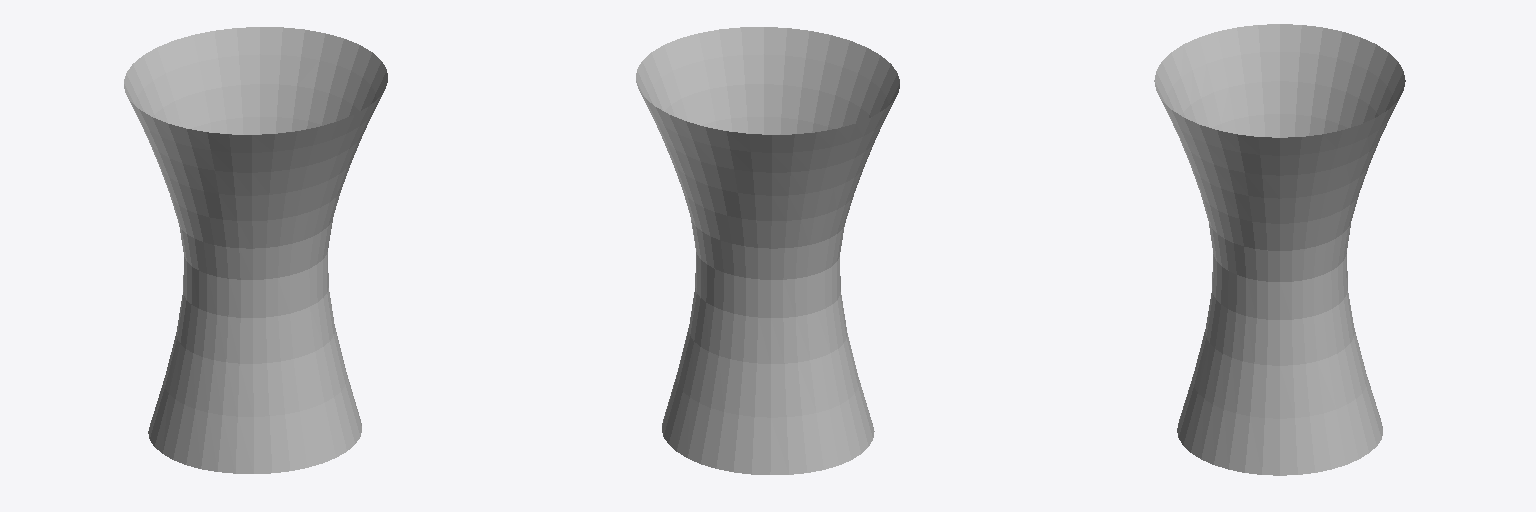
Rendered from AirGlassContact.obj.
The picture shows the model from 3 angles: view 1: azimuth 30°, elevation 25°; view 2: azimuth 150°, elevation 25°; view 3: azimuth 270°, elevation 25°; orthographic projection.
Parts seen in each view (by area): view 1: Contatto_aria_vetro_Cube.003; view 2: Contatto_aria_vetro_Cube.003; view 3: Contatto_aria_vetro_Cube.003.
Boxes of the visible parts, box(x1,y1,x2,y2) form: Contatto_aria_vetro_Cube.003: box(124, 27, 387, 473); Contatto_aria_vetro_Cube.003: box(636, 27, 899, 474); Contatto_aria_vetro_Cube.003: box(1154, 24, 1405, 475).
Size of the model in its own units: 0.538 by 0.7717 by 0.502.